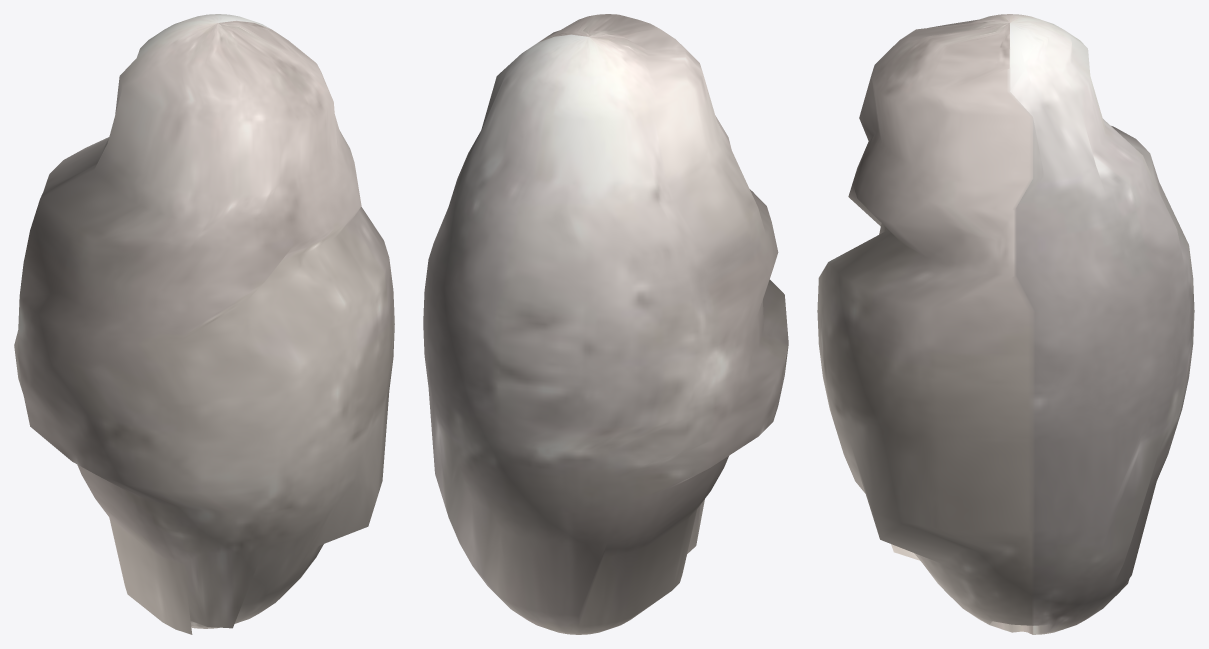
File: asteroid_large_mdl.fbx
3 views of the same model, side by side, from view 1: azimuth 30°, elevation 25°; view 2: azimuth 150°, elevation 25°; view 3: azimuth 270°, elevation 25° (orthographic). The views are drawn at different scales.
Visible parts, largest first — view 1: Sphere; view 2: Sphere; view 3: Sphere.
Boxes of the visible parts, bbox=[...] form: Sphere: bbox=[14, 14, 394, 634]; Sphere: bbox=[423, 14, 788, 634]; Sphere: bbox=[817, 14, 1194, 634].
Size of the model in its own units: 1.11 by 2.06 by 1.17.
Materials: 1 (1 with a texture image).
